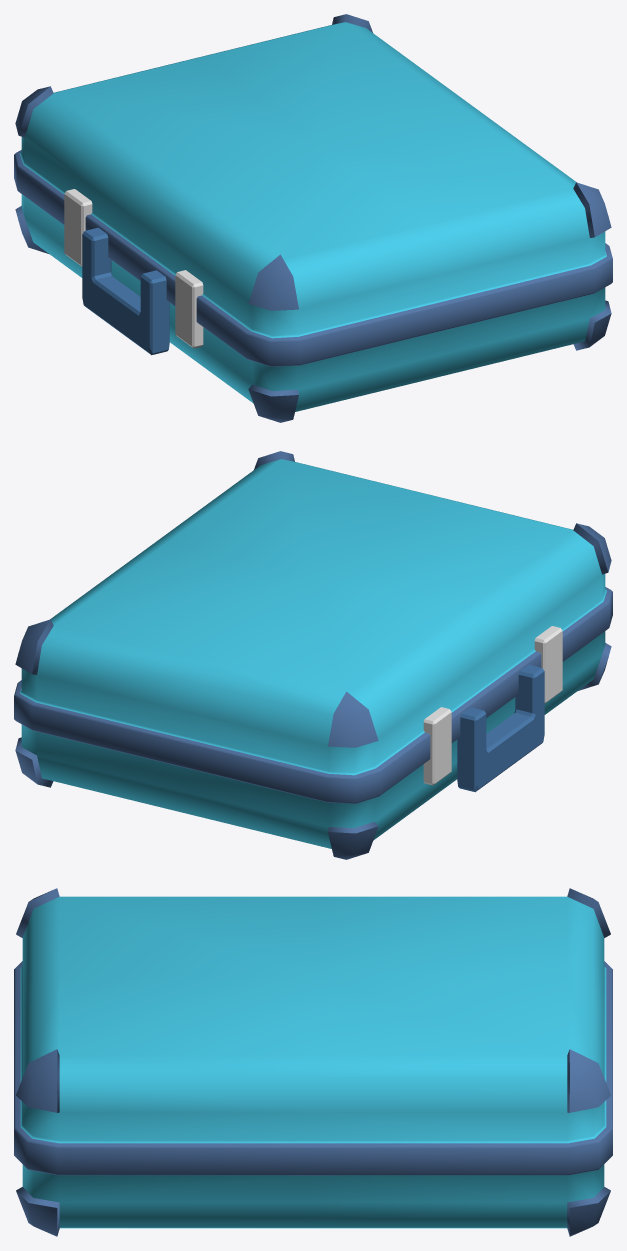
The model's file is baggage1.fbx.
The picture shows the model from 3 angles, top to bottom: view 1: azimuth 30°, elevation 25°; view 2: azimuth 150°, elevation 25°; view 3: azimuth 270°, elevation 25°; orthographic projection. The views are drawn at different scales.
Parts seen in each view (by area): view 1: Cube.001, Cube.003, Cube.002; view 2: Cube.001, Cube.003, Cube.002; view 3: Cube.001.
Part boxes in pixels (left/top/right/bottom): Cube.001: left=14, top=14, right=612, bottom=422; Cube.003: left=82, top=227, right=169, bottom=355; Cube.002: left=64, top=189, right=203, bottom=348; Cube.001: left=14, top=451, right=612, bottom=859; Cube.003: left=457, top=664, right=544, bottom=792; Cube.002: left=423, top=626, right=562, bottom=785; Cube.001: left=14, top=888, right=612, bottom=1236.
Bounding box in the file's own units: 14.36 × 6.1 × 17.62.
